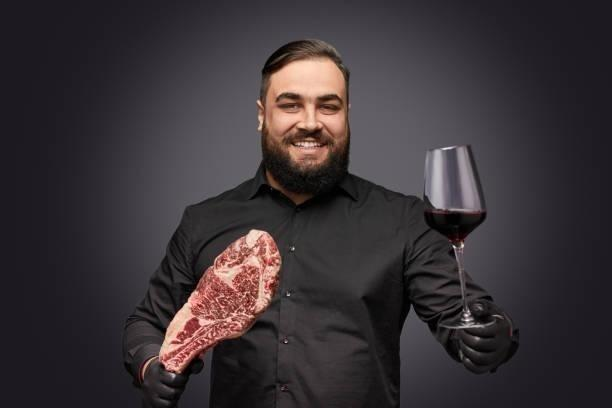glass-wine: (421, 142, 489, 330)
